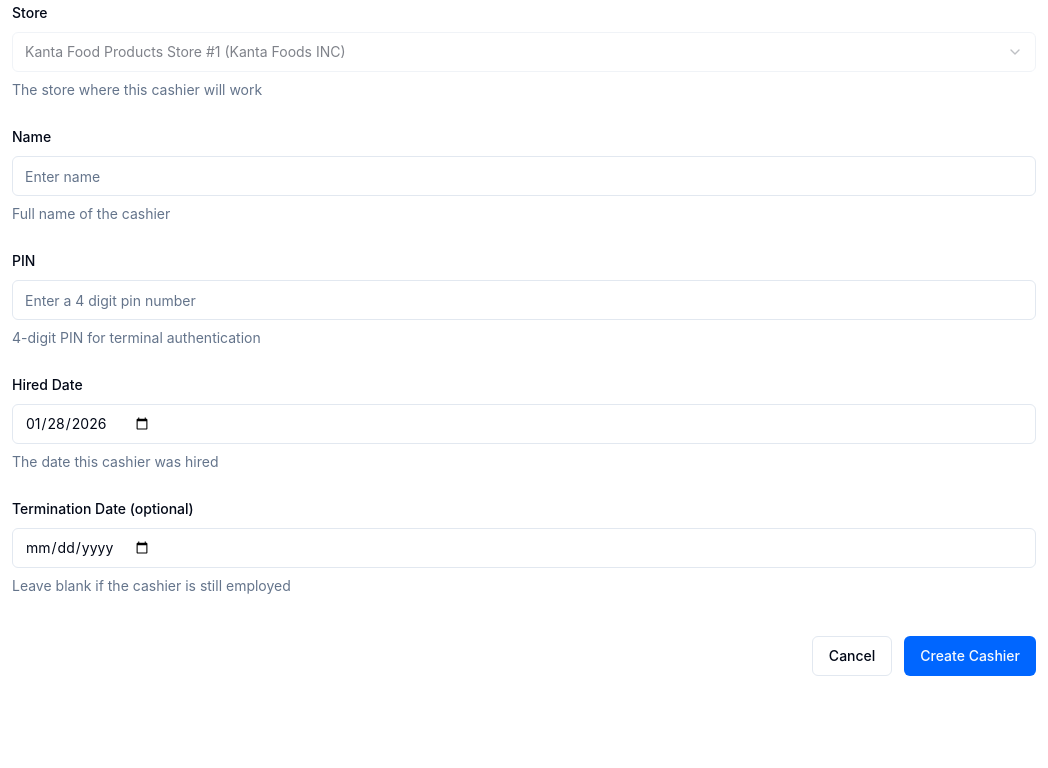
it: 4.9-COMPONENT: CashierForm - Form Fields › [P1] 4.9-COMPONENT-021: should validate name is required
Expected: the text "Kanta Food Products Store #1 (Kanta Foods INC)" is shown, [25, 42, 346, 62]
Note: User submits without name
Type "1234" into the password field with test id "cashier-pin".
click(524, 300); type("1234")  # box [12, 280, 1036, 320]
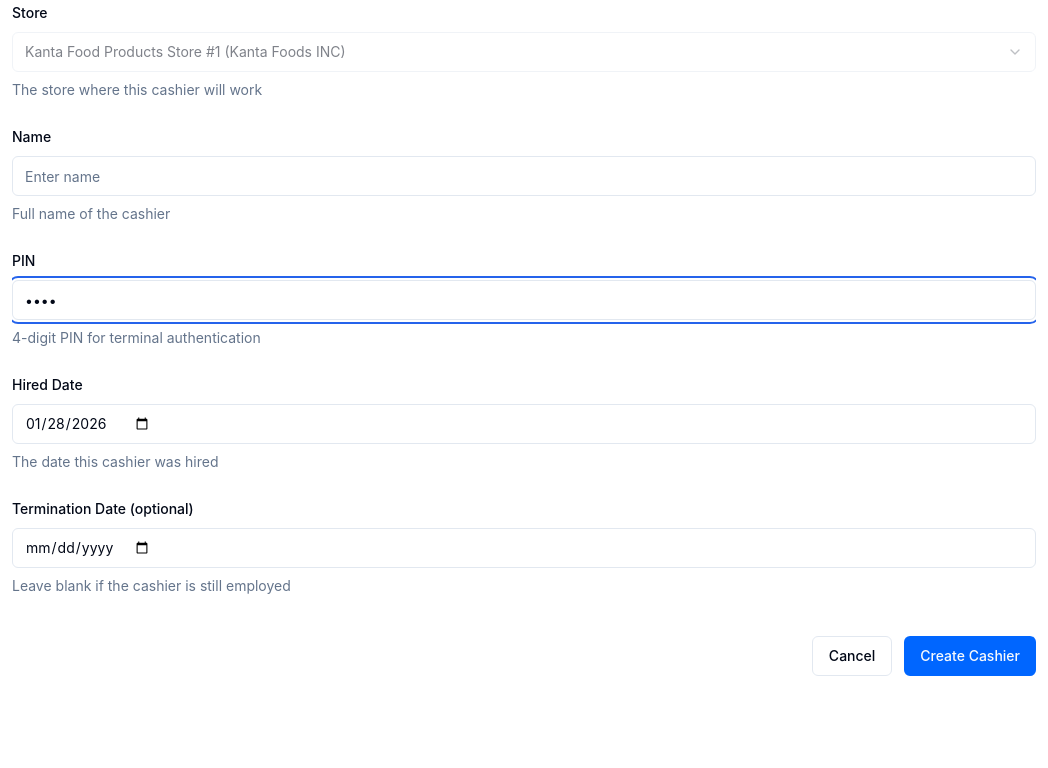
Click the button with test id "submit-cashier".
click(970, 656)  # box [904, 636, 1036, 676]
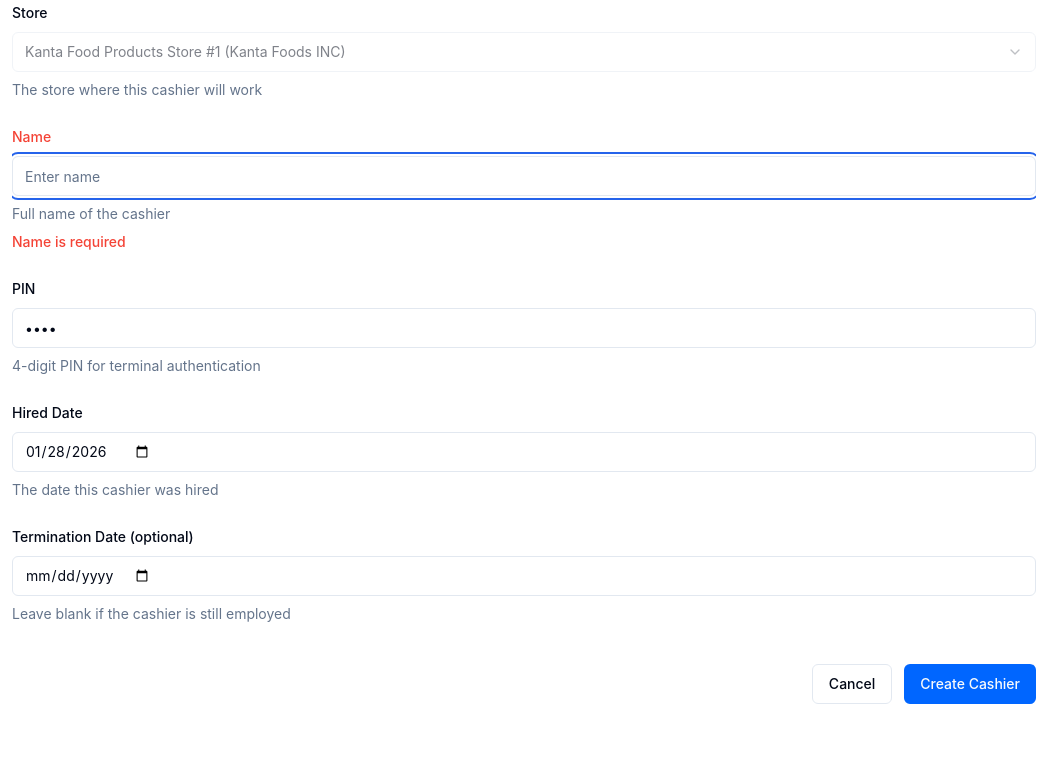
Expected: the text "Name is required" is shown, [12, 233, 126, 250]
